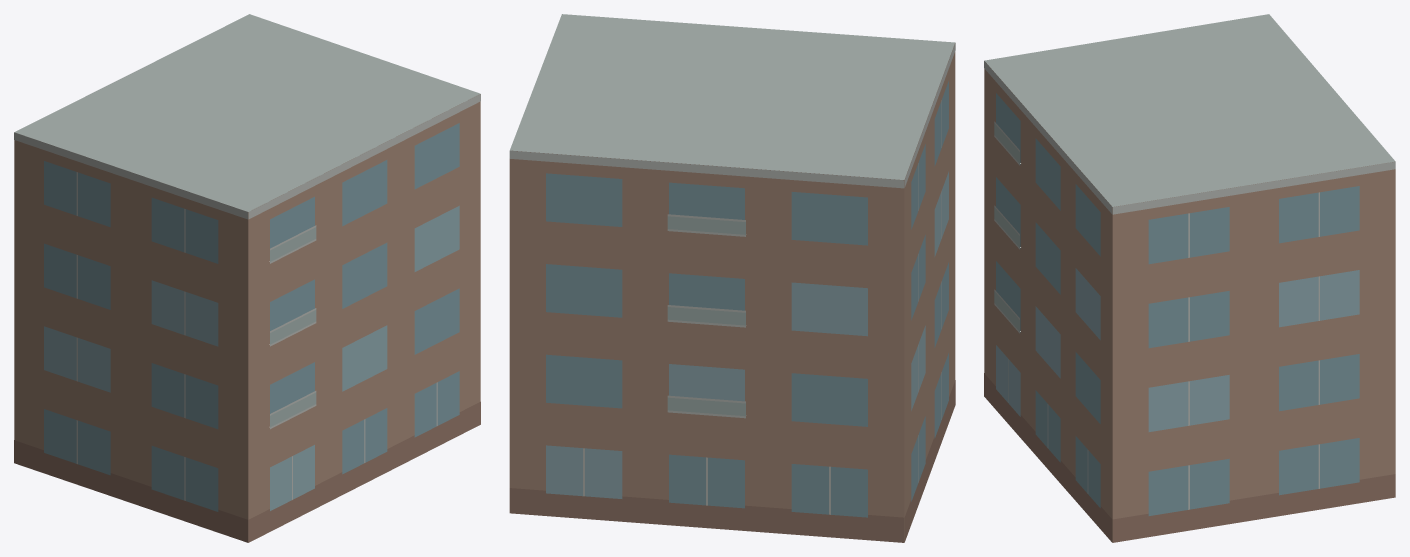
File: survey-upis-32967888.glb
The picture shows the model from 3 angles, left to right: view 1: azimuth 30°, elevation 25°; view 2: azimuth 150°, elevation 25°; view 3: azimuth 270°, elevation 25°; orthographic projection. The views are drawn at different scales.
Parts seen in each view (by area): view 1: survey-upis-32967888.tmp; view 2: survey-upis-32967888.tmp; view 3: survey-upis-32967888.tmp.
Boxes of the visible parts, <box> form: survey-upis-32967888.tmp: <box>14,14,480,542</box>; survey-upis-32967888.tmp: <box>509,14,955,542</box>; survey-upis-32967888.tmp: <box>984,14,1395,542</box>.
Bounding box in the file's own units: 13.13 × 10.65 × 11.83.
